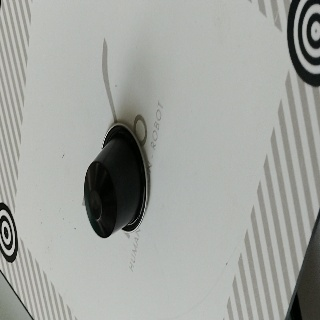capsule_10: (83, 121, 149, 237)
